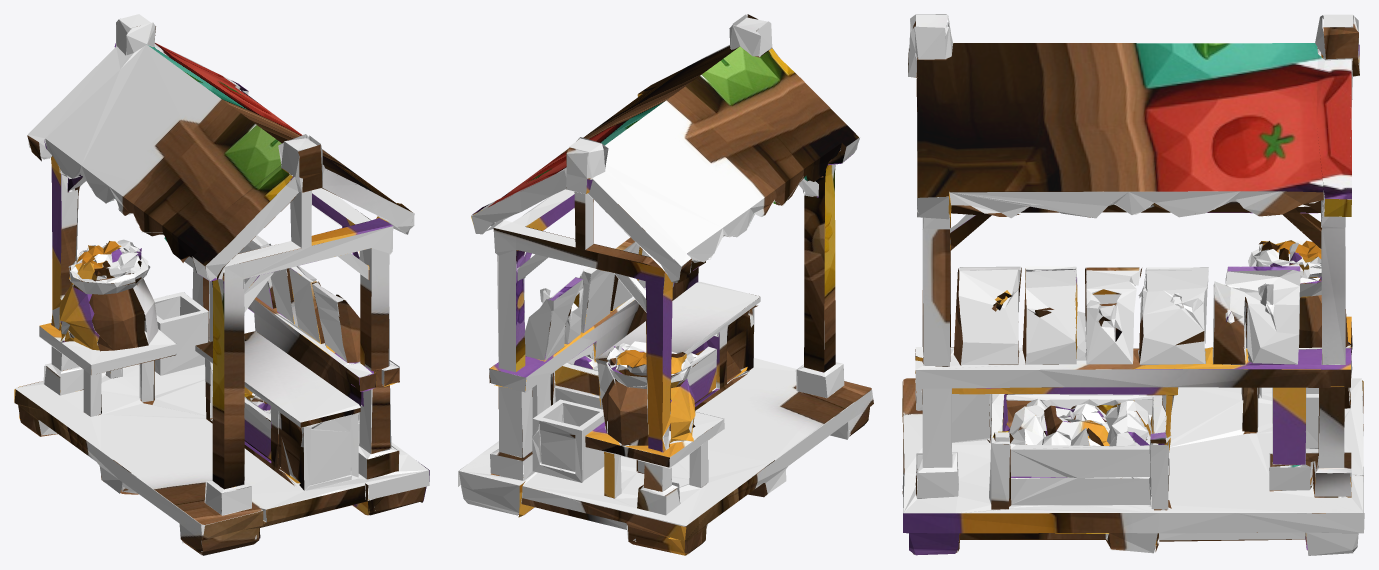
Rendered from SeedShopStall.obj.
The picture shows the model from 3 angles, left to right: view 1: azimuth 30°, elevation 25°; view 2: azimuth 150°, elevation 25°; view 3: azimuth 270°, elevation 25°; orthographic projection. The views are drawn at different scales.
Visible parts, largest first — view 1: SeedShopStall; view 2: SeedShopStall; view 3: SeedShopStall.
Boxes of the visible parts, x1,y1,x2,y2 form: SeedShopStall: (14,14,429,555); SeedShopStall: (458,14,873,555); SeedShopStall: (902,14,1364,555).
Bounding box in the file's own units: 2.18 × 3.52 × 3.14.
